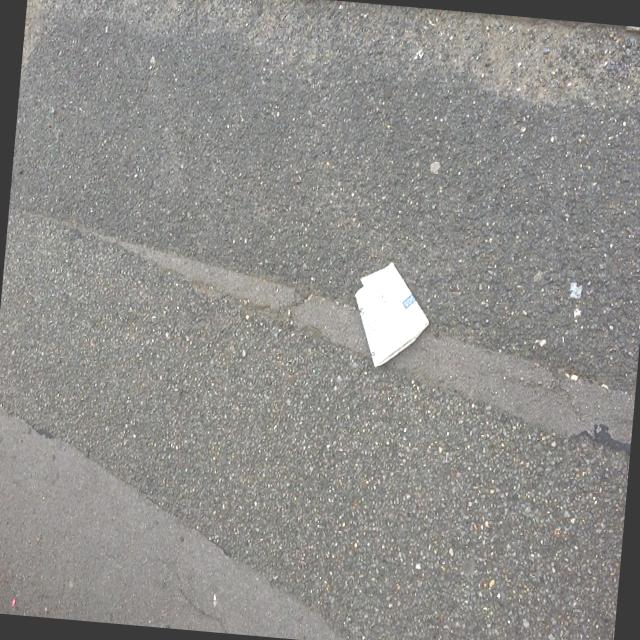Trash: (352, 257, 436, 372)
